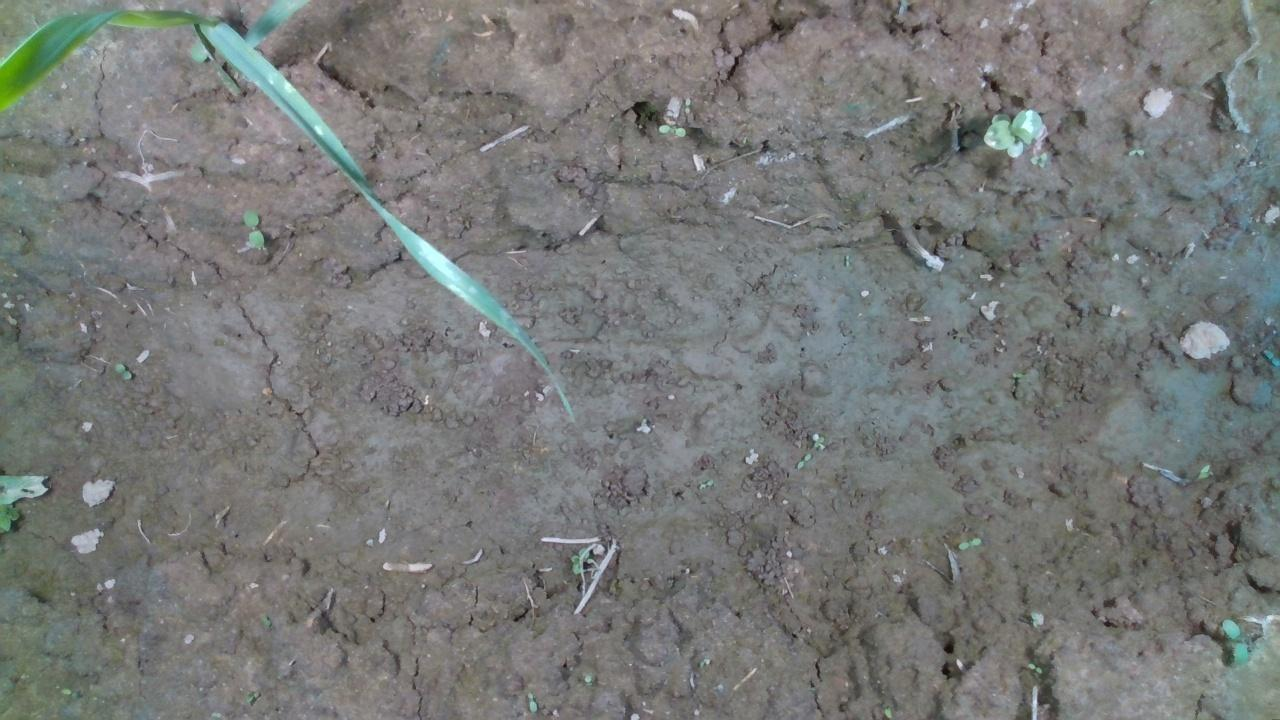weed: (809, 428, 854, 451), (109, 360, 147, 382), (647, 118, 688, 137), (1125, 142, 1145, 157)
